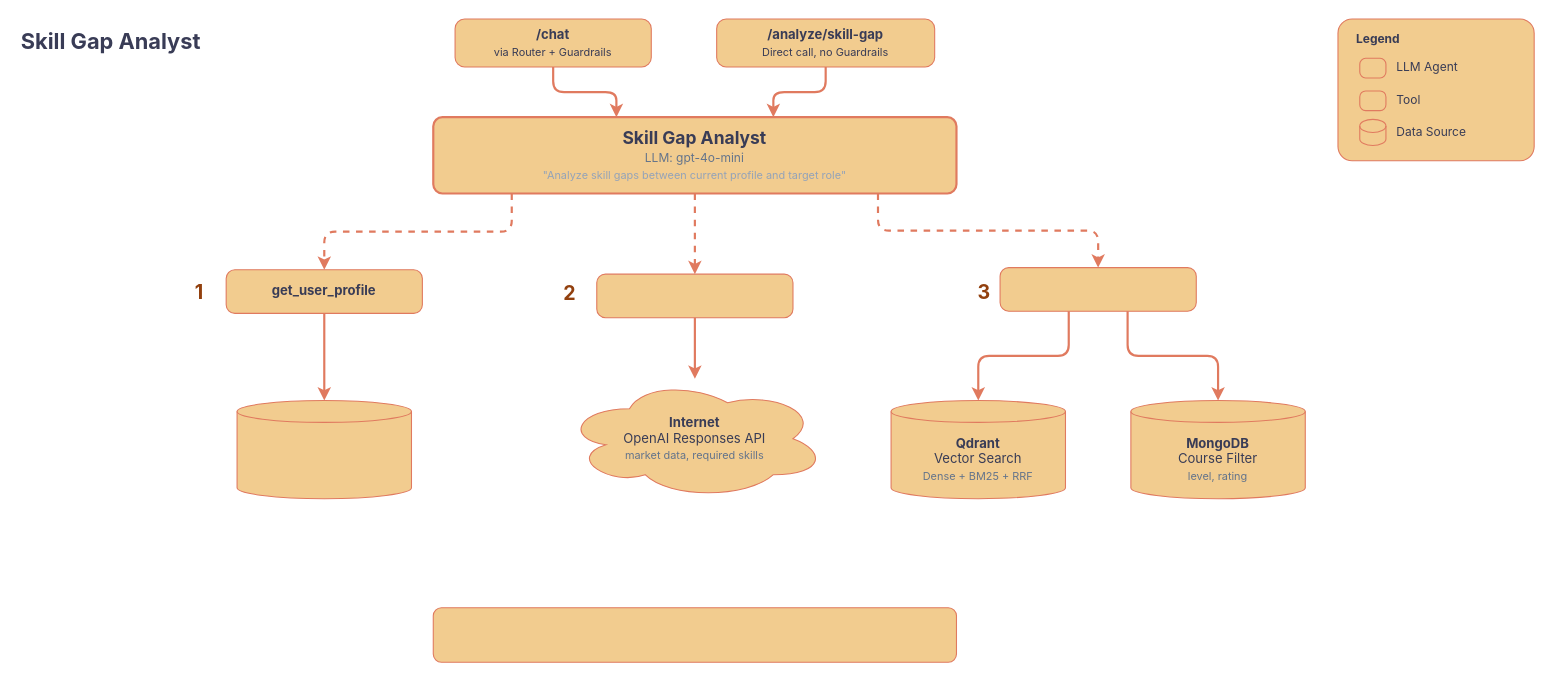
Image size: 1553x681. Some labels were removed from this diagram. Each missing label, with the centre of its shape:
"MongoDB User DB skills, history" goes at [323,449].
"Output (JSON) gaps[] | recommended_courses[] | priority_ranking" goes at [694,634].
"retrieve_courses" goes at [1097,289].
"web_search" goes at [694,295].
